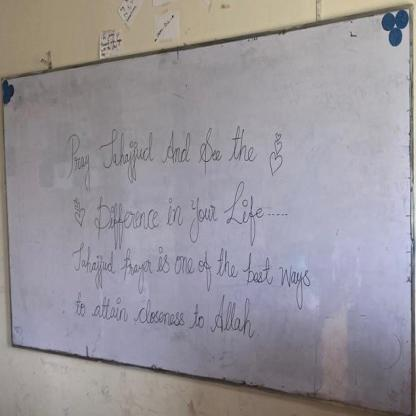Handwritten text: (58, 109, 265, 194), (68, 240, 315, 296), (90, 175, 267, 251), (68, 289, 261, 345)
Whiteboard: (0, 6, 416, 416)
